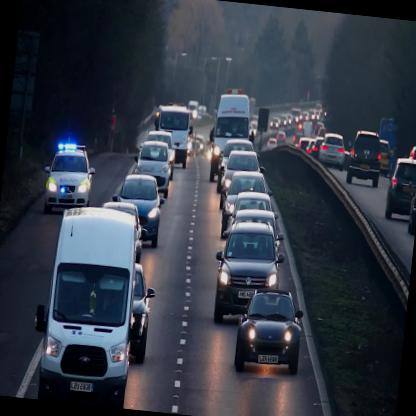car: (209, 218, 288, 330), (232, 288, 304, 380), (106, 171, 168, 248), (41, 143, 97, 215), (218, 169, 272, 243), (219, 149, 265, 207), (133, 138, 173, 196), (346, 129, 384, 188), (384, 159, 415, 225), (318, 132, 347, 170), (406, 175, 415, 233)
truck: (36, 202, 145, 408), (208, 92, 252, 186), (154, 103, 192, 171)
